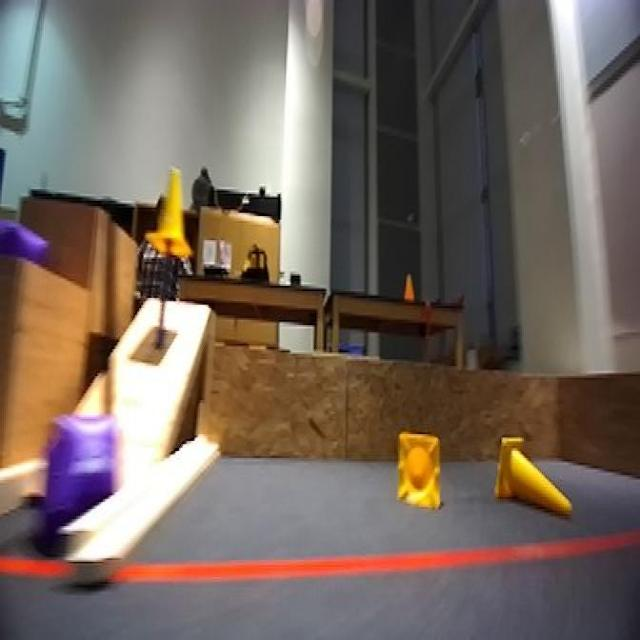frc_cone: (492, 431, 584, 526), (149, 157, 200, 267), (395, 432, 447, 512)
frc_cube: (47, 412, 123, 526), (0, 209, 51, 268)
